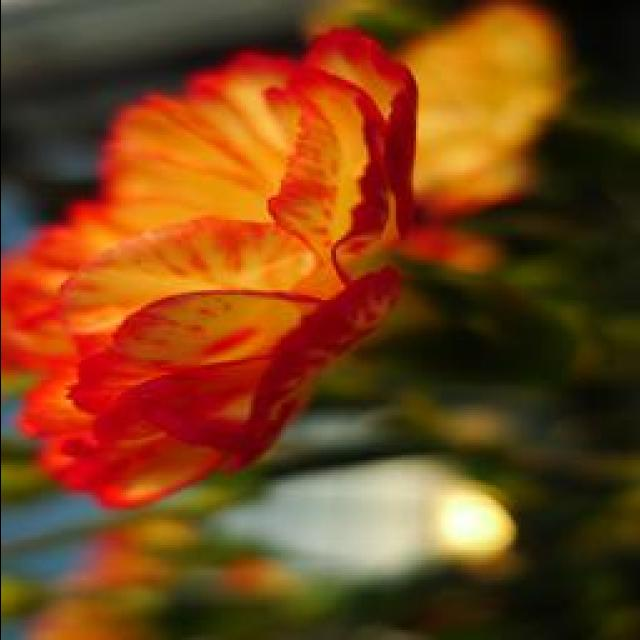carnation: (2, 27, 472, 555)
